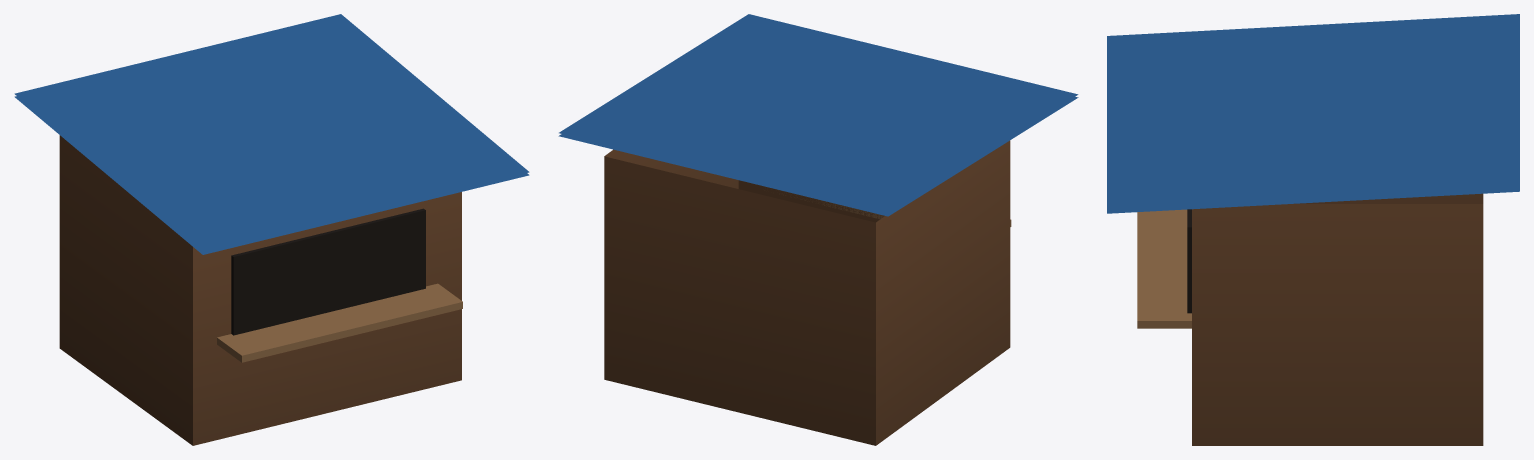
The model's file is ub_shack_wood_lod1.glb.
The picture shows the model from 3 angles, left to right: view 1: azimuth 30°, elevation 25°; view 2: azimuth 150°, elevation 25°; view 3: azimuth 270°, elevation 25°; orthographic projection. The views are drawn at different scales.
Visible parts, largest first — view 1: ub_shack_wood_lod1; view 2: ub_shack_wood_lod1; view 3: ub_shack_wood_lod1.
Part boxes in pixels (x1,y1,x2,y2): ub_shack_wood_lod1: [14, 14, 529, 445]; ub_shack_wood_lod1: [558, 14, 1078, 445]; ub_shack_wood_lod1: [1107, 14, 1519, 445].
Size of the model in its own units: 3.4 by 2.48 by 3.4.
